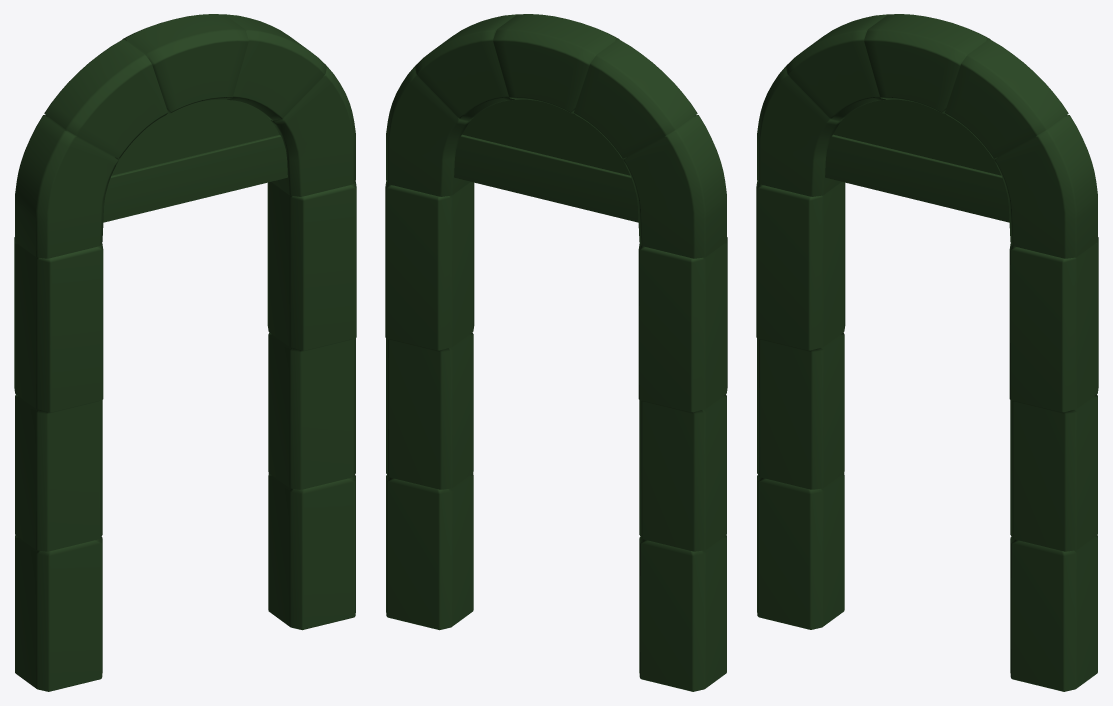
Rendered from Door1SquareFrame1.fbx.
3 views of the same model, side by side, from view 1: azimuth 30°, elevation 25°; view 2: azimuth 150°, elevation 25°; view 3: azimuth 330°, elevation 25° (orthographic).
Visible parts, largest first — view 1: Door1SquareFrame1; view 2: Door1SquareFrame1; view 3: Door1SquareFrame1.
Part boxes in pixels (x1,y1,x2,y2): Door1SquareFrame1: (14,14,356,691); Door1SquareFrame1: (385,14,727,691); Door1SquareFrame1: (756,14,1098,691).
Size of the model in its own units: 188 by 346 by 36.38.
